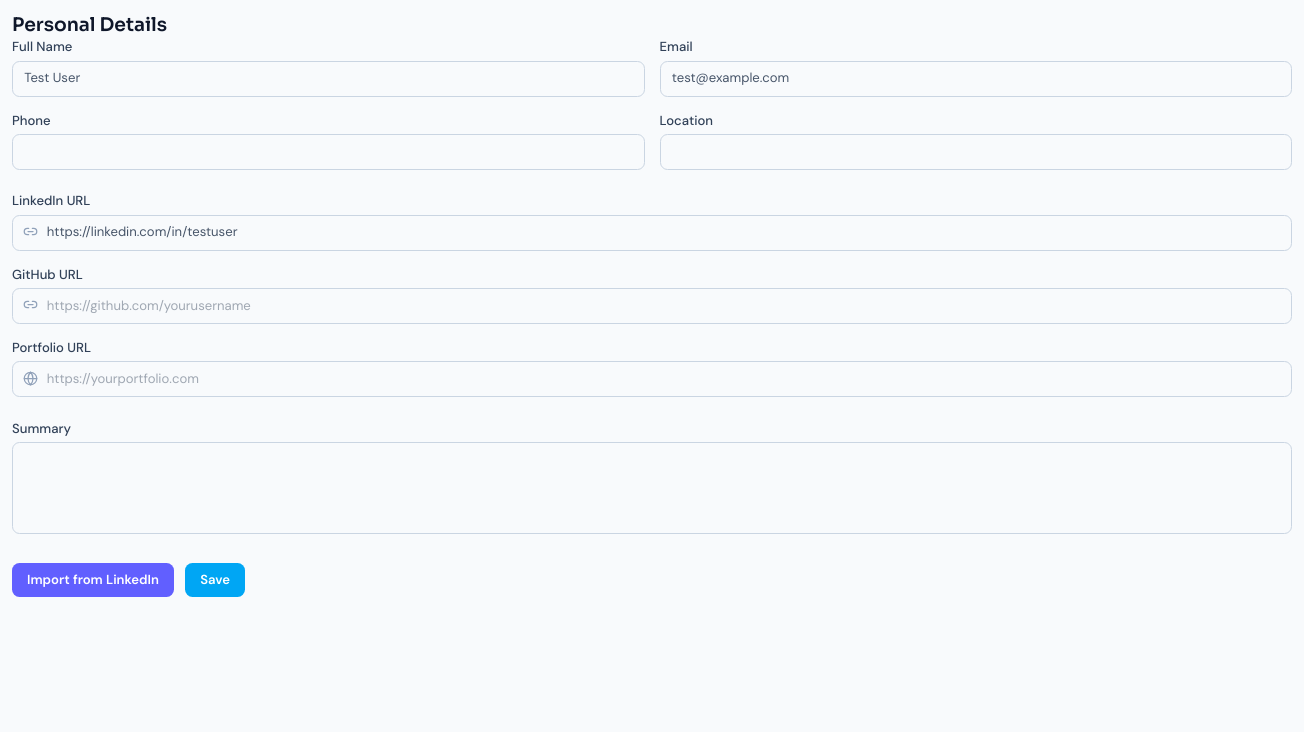
it: PersonalForm — LinkedIn Import › saved URL path (linkedin_url present) › shows import summary after success
Click the button "Import from LinkedIn" at [93, 580], box [12,563,174,597]
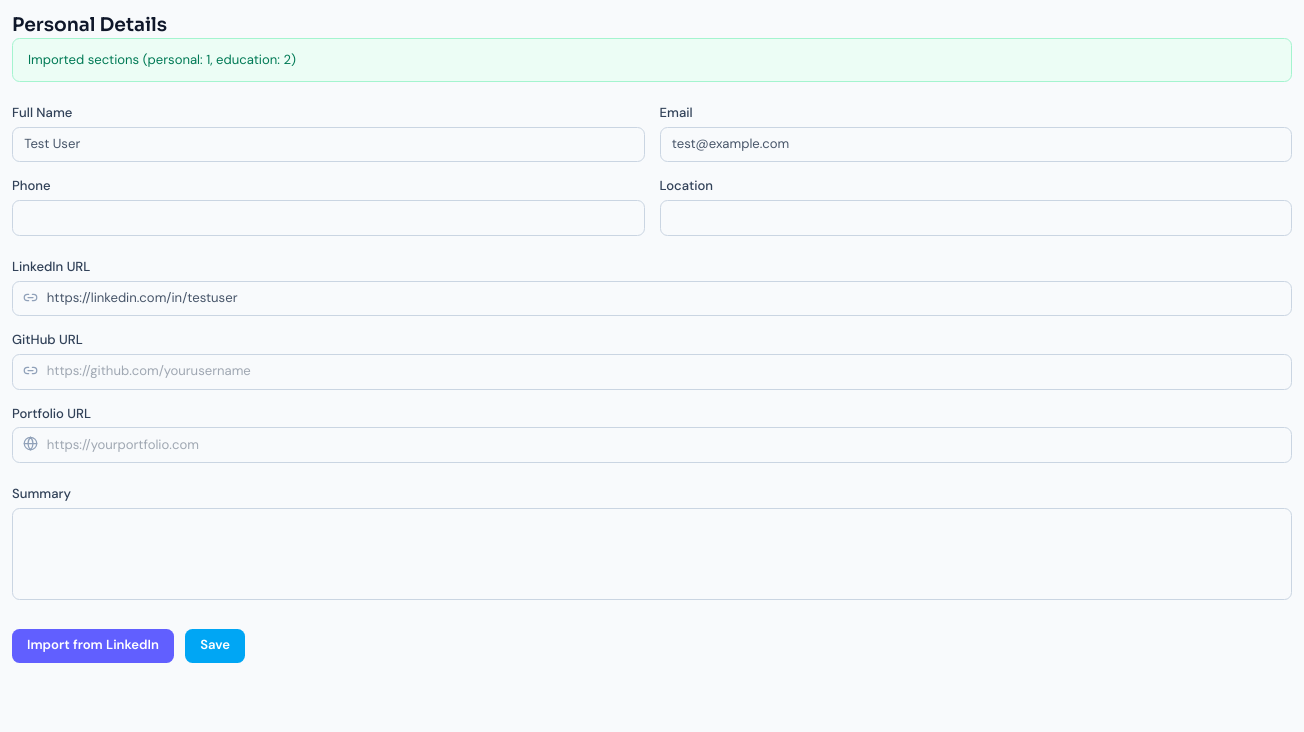
Expected: the text "Imported sections (personal: 1, education: 2)" is shown, [12,38,1292,82]
